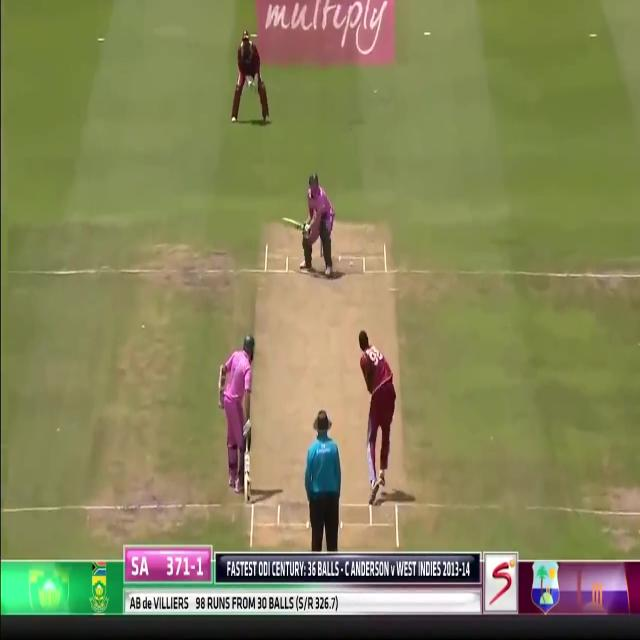Ball: (218, 332, 254, 496), (302, 172, 336, 274)
Fielder: (358, 330, 399, 500), (235, 32, 263, 124)
Umpire: (304, 408, 342, 548)
